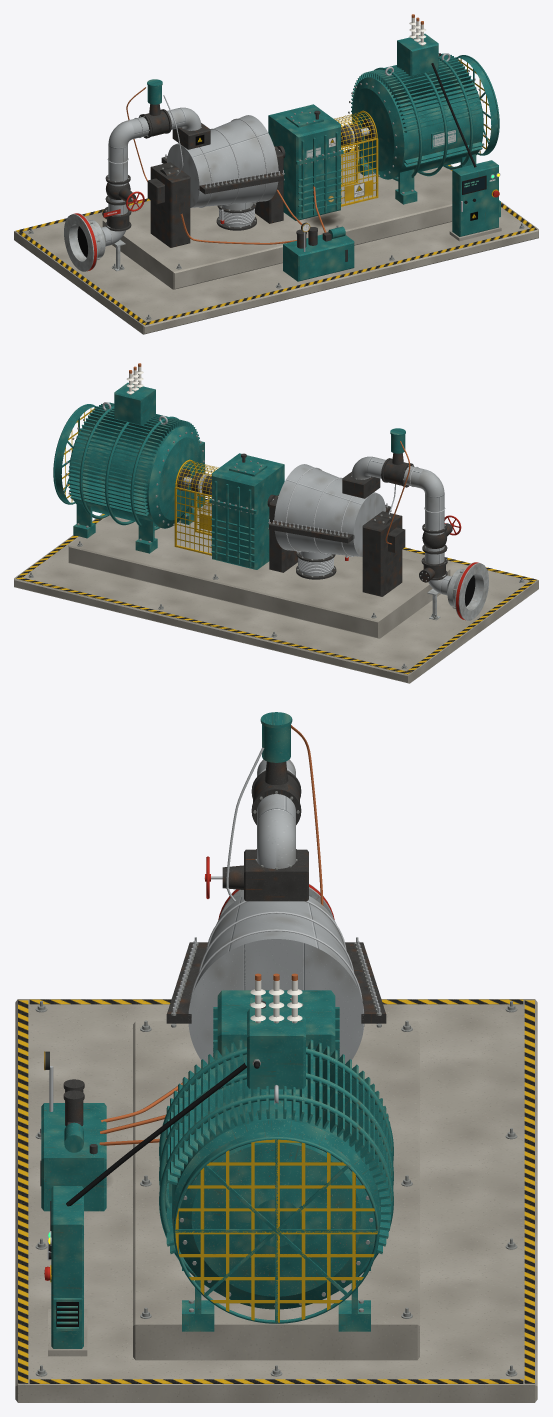
File: SteamTurbine.glb
The picture shows the model from 3 angles, top to bottom: view 1: azimuth 30°, elevation 25°; view 2: azimuth 150°, elevation 25°; view 3: azimuth 270°, elevation 25°; orthographic projection. The views are drawn at different scales.
Visible parts, largest first — view 1: ST_Bed_Concrete, ST_Generator_Teal, ST_Casing_Lagging, ST_Gearbox_Teal, ST_Casing_Iron, ST_Controls_Teal, ST_Inlet_Lagging, ST_Oil_Teal, ST_Bed_Hazard, ST_Inlet_Iron, ST_PortIn_Galv, ST_Guard_Mesh (+4 smaller); view 2: ST_Bed_Concrete, ST_Generator_Teal, ST_Gearbox_Teal, ST_Casing_Lagging, ST_Casing_Iron, ST_Inlet_Lagging, ST_Bed_Hazard, ST_Inlet_Iron, ST_Guard_Mesh, ST_PortIn_Galv, ST_Casing_Steel, ST_Guard_Guard; view 3: ST_Bed_Concrete, ST_Generator_Teal, ST_Casing_Lagging, ST_Bed_Hazard, ST_Generator_Mesh, ST_Oil_Teal, ST_Casing_Iron, ST_Controls_Teal, ST_Gearbox_Teal, ST_Inlet_Lagging, ST_Inlet_Iron, ST_Casing_Steel (+6 smaller).
Part boxes in pixels (box(x1,y1,x2,y2)): ST_Bed_Concrete: box(14, 149, 538, 334); ST_Generator_Teal: box(351, 33, 499, 204); ST_Casing_Lagging: box(167, 115, 278, 227); ST_Gearbox_Teal: box(268, 104, 343, 220); ST_Casing_Iron: box(147, 123, 283, 247); ST_Controls_Teal: box(452, 160, 500, 236); ST_Inlet_Lagging: box(101, 107, 201, 246); ST_Oil_Teal: box(283, 226, 354, 281); ST_Bed_Hazard: box(16, 147, 536, 325); ST_Inlet_Iron: box(102, 104, 171, 231); ST_PortIn_Galv: box(64, 213, 105, 271); ST_Guard_Mesh: box(334, 111, 376, 203); ST_Bed_Concrete: box(14, 501, 538, 683); ST_Generator_Teal: box(53, 382, 200, 553); ST_Gearbox_Teal: box(209, 453, 284, 569); ST_Casing_Lagging: box(274, 464, 385, 576); ST_Casing_Iron: box(269, 472, 405, 596); ST_Inlet_Lagging: box(351, 456, 451, 595); ST_Bed_Hazard: box(16, 498, 536, 674); ST_Inlet_Iron: box(381, 453, 452, 582); ST_Guard_Mesh: box(176, 461, 218, 552); ST_PortIn_Galv: box(447, 562, 488, 620); ST_Casing_Steel: box(269, 467, 387, 573); ST_Guard_Guard: box(174, 459, 211, 555); ST_Bed_Concrete: box(15, 999, 537, 1402); ST_Generator_Teal: box(159, 1008, 393, 1331); ST_Casing_Lagging: box(188, 896, 364, 1063); ST_Bed_Hazard: box(18, 999, 534, 1383); ST_Generator_Mesh: box(175, 1139, 377, 1322); ST_Oil_Teal: box(41, 1103, 106, 1211); ST_Casing_Iron: box(166, 849, 386, 1023); ST_Controls_Teal: box(51, 1186, 83, 1348); ST_Gearbox_Teal: box(213, 990, 339, 1059); ST_Inlet_Lagging: box(257, 759, 295, 868); ST_Inlet_Iron: box(222, 761, 301, 889); ST_Casing_Steel: box(172, 901, 380, 1013).
Size of what is drawn, in the model's own units: 14 by 6.3 by 8.
Materials: 32 (19 with a texture image).
